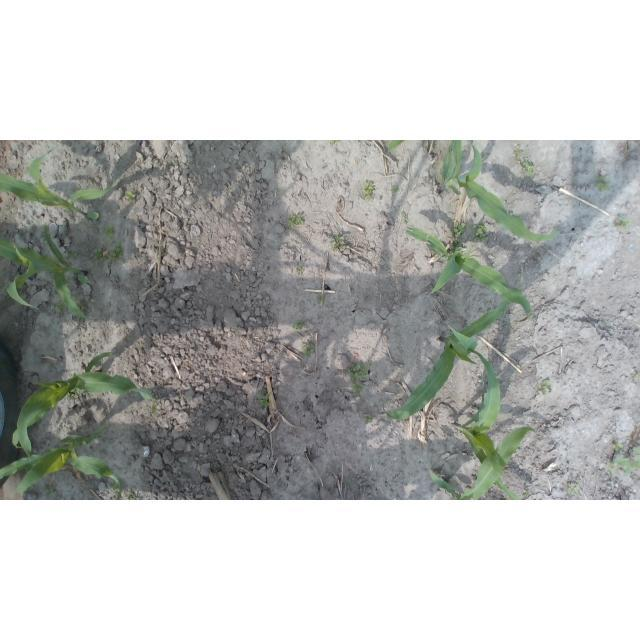Maize: (384, 266, 526, 421), (11, 351, 158, 461), (439, 141, 560, 244), (405, 225, 531, 321), (449, 352, 519, 501), (0, 425, 122, 500), (1, 225, 96, 321), (425, 425, 535, 500), (0, 152, 114, 221), (387, 140, 405, 150)
Weeds: (615, 446, 640, 475), (348, 361, 371, 379), (519, 158, 535, 180), (471, 224, 489, 243), (330, 233, 347, 252), (108, 241, 124, 261), (258, 389, 272, 408), (362, 180, 375, 200), (537, 379, 553, 395), (452, 221, 467, 238), (616, 217, 632, 232), (287, 215, 304, 229), (56, 300, 69, 316), (93, 247, 107, 261), (597, 176, 610, 191), (450, 237, 463, 251), (103, 225, 115, 240), (353, 380, 364, 396), (568, 483, 581, 496), (303, 344, 316, 357), (44, 485, 57, 498), (605, 460, 618, 472), (125, 190, 137, 202), (292, 320, 305, 331), (513, 144, 523, 156), (65, 252, 77, 261), (77, 300, 86, 312), (316, 292, 324, 304), (400, 211, 408, 223), (364, 414, 373, 424), (127, 492, 138, 500), (613, 444, 624, 452), (296, 263, 304, 273), (392, 185, 400, 194), (112, 482, 119, 491), (74, 388, 82, 395), (523, 490, 529, 499), (66, 392, 72, 401), (331, 140, 340, 144), (632, 374, 639, 379)
